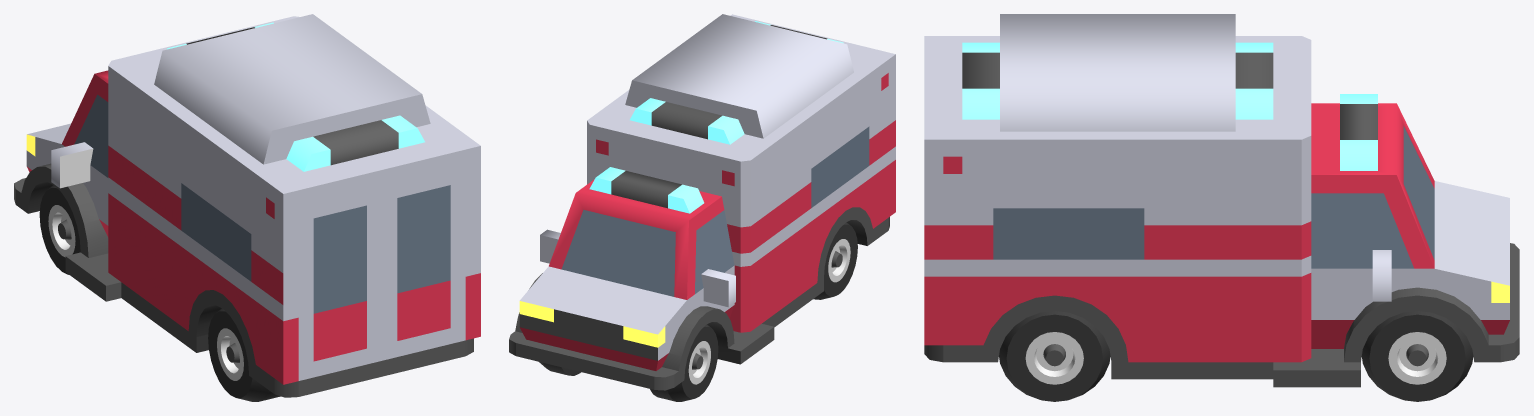
File: ambulance.glb
3 renders of one model, left to right at view 1: azimuth 30°, elevation 25°; view 2: azimuth 150°, elevation 25°; view 3: azimuth 270°, elevation 25°, orthographic. The views are drawn at different scales.
Parts seen in each view (by area): view 1: body, doorLeft, doorRight, wheel_backLeft, wheel_frontLeft; view 2: body, wheel_frontLeft, wheel_backLeft; view 3: body, wheel_backRight, wheel_frontRight.
Boxes of the visible parts, left/top/right/bottom form: body: left=14, top=14, right=480, bottom=397; doorLeft: left=298, top=186, right=382, bottom=380; doorRight: left=382, top=165, right=465, bottom=360; wheel_backLeft: left=208, top=308, right=280, bottom=401; wheel_frontLeft: left=39, top=185, right=80, bottom=274; body: left=509, top=14, right=895, bottom=390; wheel_frontLeft: left=650, top=324, right=718, bottom=401; wheel_backLeft: left=813, top=222, right=857, bottom=299; body: left=924, top=14, right=1519, bottom=387; wheel_backRight: left=999, top=311, right=1110, bottom=401; wheel_frontRight: left=1361, top=311, right=1473, bottom=401.
Size of the model in its own units: 1.5 by 1.8 by 3.15.
